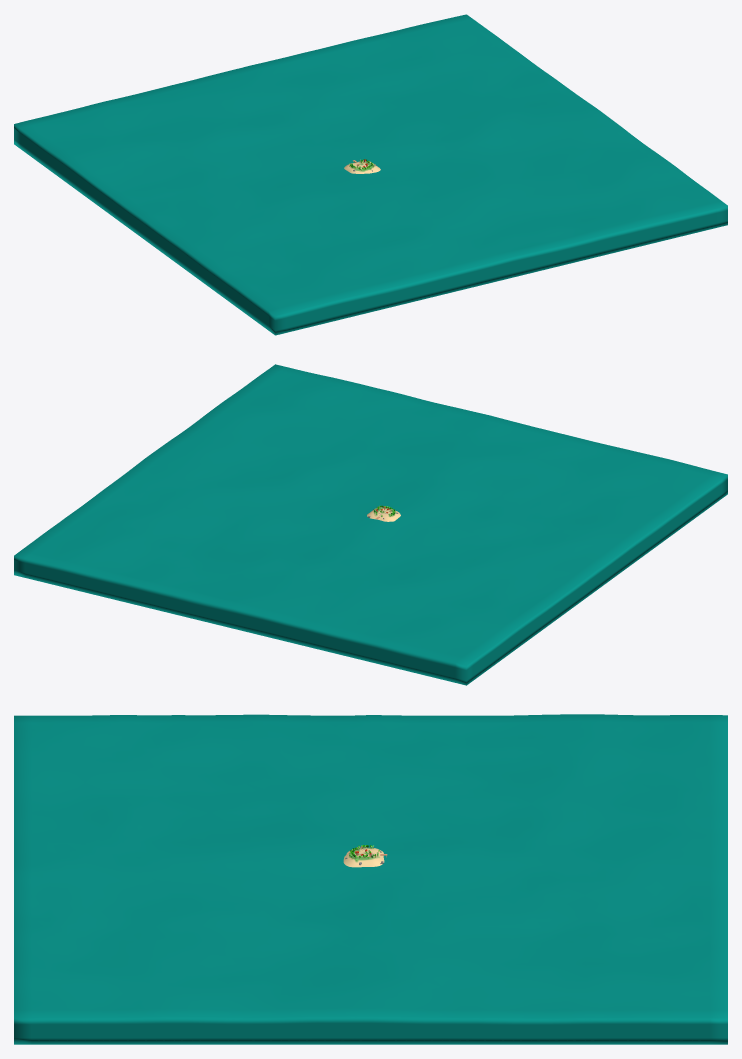
The model's file is Island10.glb.
3 views of the same model, one above another, from view 1: azimuth 30°, elevation 25°; view 2: azimuth 150°, elevation 25°; view 3: azimuth 270°, elevation 25° (orthographic). The views are drawn at different scales.
Visible parts, largest first — view 1: Water; view 2: Water; view 3: Water, Cube.001.
Boxes of the visible parts, x1,y1,x2,y2 form: Water: (14, 14, 727, 335); Water: (14, 364, 727, 685); Water: (14, 714, 727, 1044); Cube.001: (343, 847, 384, 867).
Size of what is drawn, in the model's own units: 24.03 by 1.38 by 24.03.
19 materials, 1 textured.
